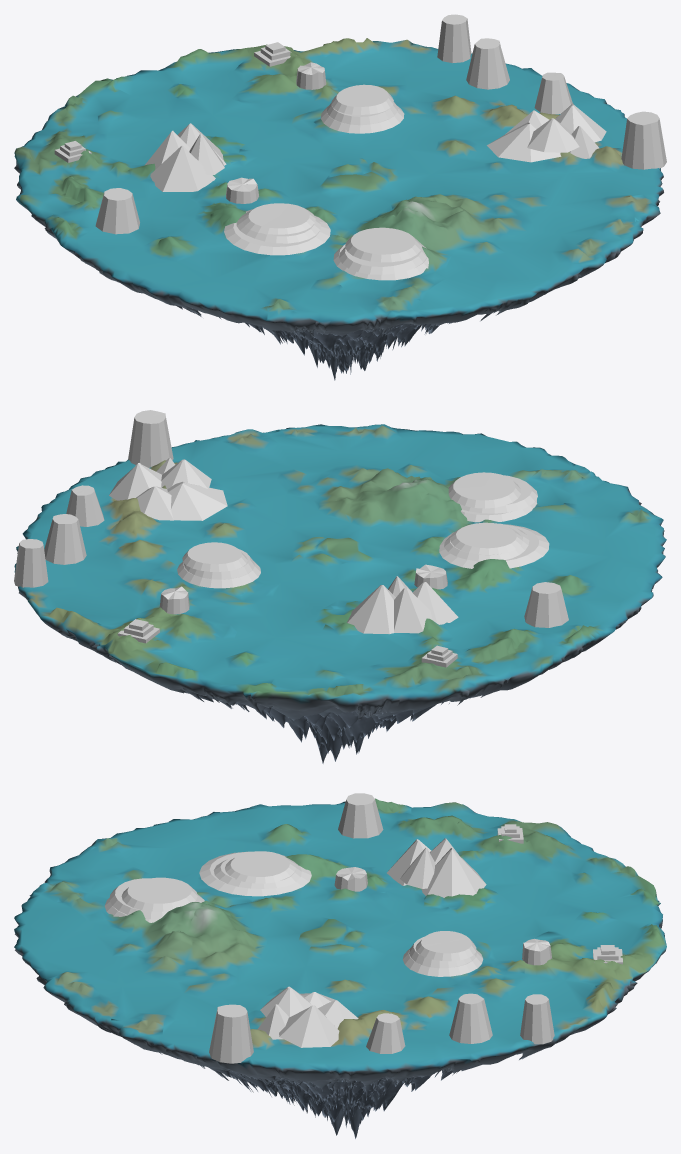
File: celestial_world_runtime_detailed.glb
The picture shows the model from 3 angles, top to bottom: view 1: azimuth 30°, elevation 25°; view 2: azimuth 150°, elevation 25°; view 3: azimuth 270°, elevation 25°; orthographic projection.
Visible parts, largest first — view 1: CelestialWorldDetailed; view 2: CelestialWorldDetailed; view 3: CelestialWorldDetailed.
Boxes of the visible parts, <box> form: CelestialWorldDetailed: <box>14,14,666,380</box>; CelestialWorldDetailed: <box>14,410,666,763</box>; CelestialWorldDetailed: <box>14,793,666,1138</box>.
Size of the model in its own units: 14.24 by 5.97 by 14.56.
